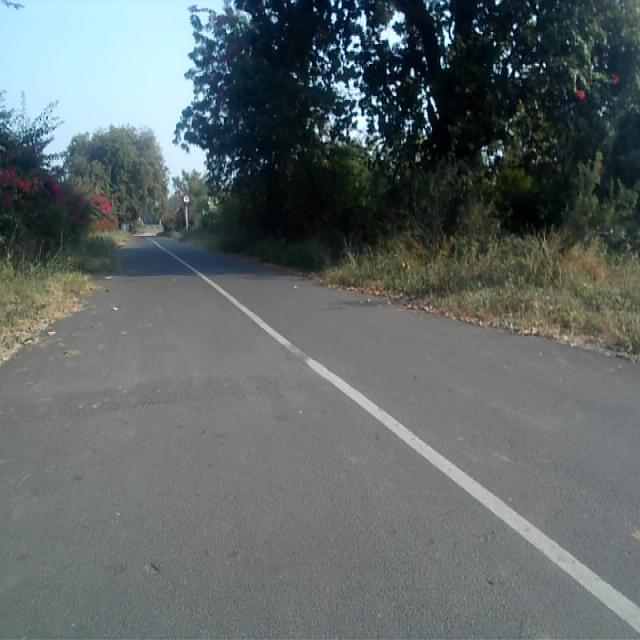lane: (0, 236, 640, 640)
